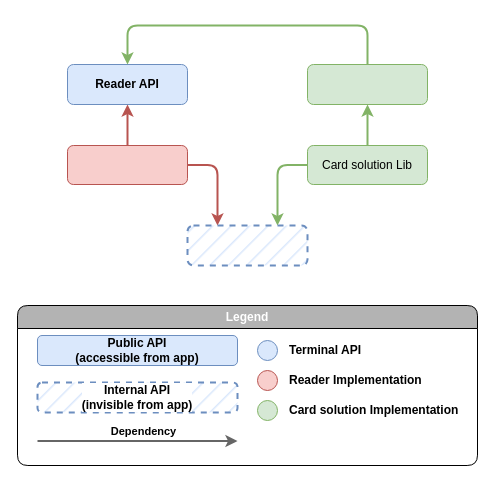
Some shapes in this 495 by 483 pixel diagram are drawn without their labels. Each missing label, with the centre of its shape:
Card API: point (247, 245)
Card solution API: point (367, 84)
Reader Lib: point (127, 164)
